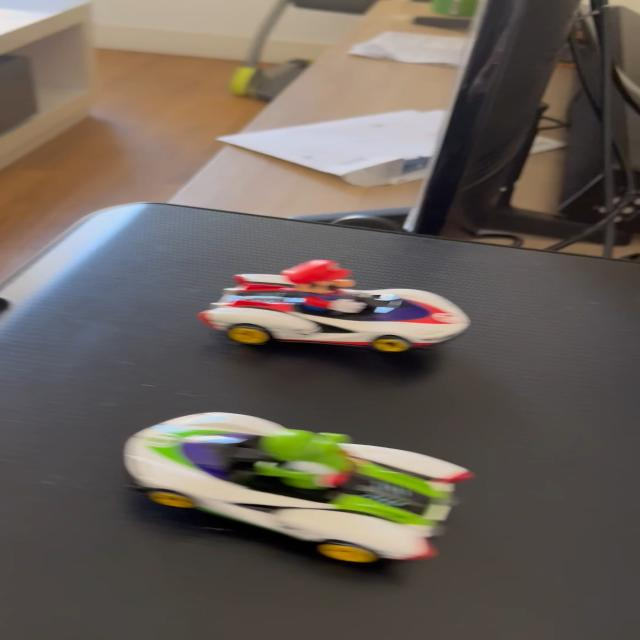mario: (200, 258, 486, 359)
yoshi: (92, 402, 498, 568)
